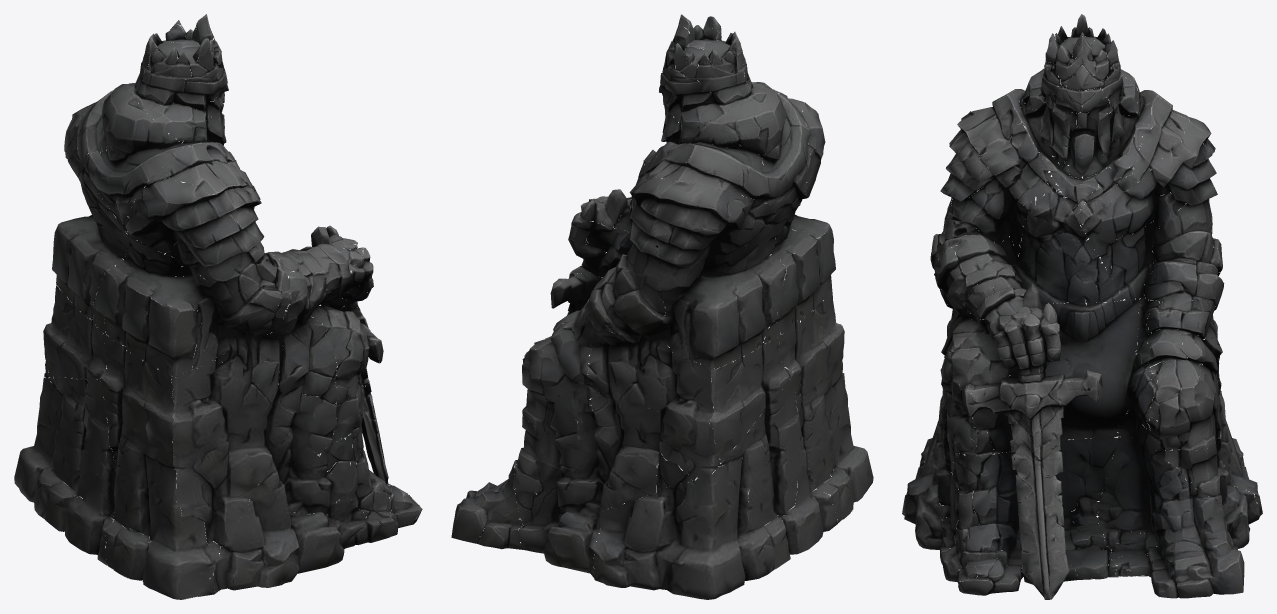
The model's file is warden-render-30k.glb.
3 views of the same model, side by side, from view 1: azimuth 30°, elevation 25°; view 2: azimuth 150°, elevation 25°; view 3: azimuth 270°, elevation 25° (orthographic).
Visible parts, largest first — view 1: warden-runtime_DIRECT_LOD0; view 2: warden-runtime_DIRECT_LOD0; view 3: warden-runtime_DIRECT_LOD0.
Boxes of the visible parts, box(x1,y1,x2,y2) form: warden-runtime_DIRECT_LOD0: box(14, 14, 422, 599); warden-runtime_DIRECT_LOD0: box(451, 14, 873, 599); warden-runtime_DIRECT_LOD0: box(902, 14, 1262, 599).
Size of the model in its own units: 6.18 by 10 by 6.67.
1 material, 1 textured.
